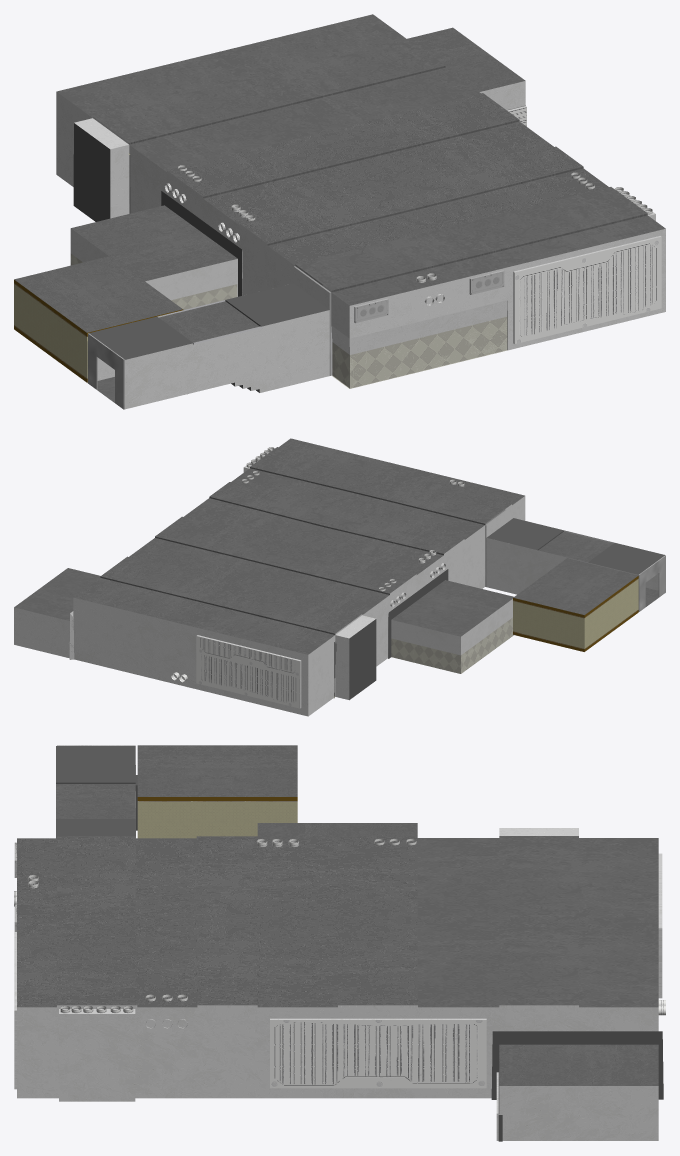
Rendered from MainBuidling.fbx.
The picture shows the model from 3 angles, top to bottom: view 1: azimuth 30°, elevation 25°; view 2: azimuth 150°, elevation 25°; view 3: azimuth 270°, elevation 25°; orthographic projection. The views are drawn at different scales.
Parts seen in each view (by area): view 1: MainBuidling; view 2: MainBuidling; view 3: MainBuidling.
Boxes of the visible parts, bbox=[...] form: MainBuidling: bbox=[14, 14, 665, 409]; MainBuidling: bbox=[14, 438, 665, 716]; MainBuidling: bbox=[14, 745, 665, 1141].
Size of the model in its own units: 38.03 by 32.43 by 5.46.
